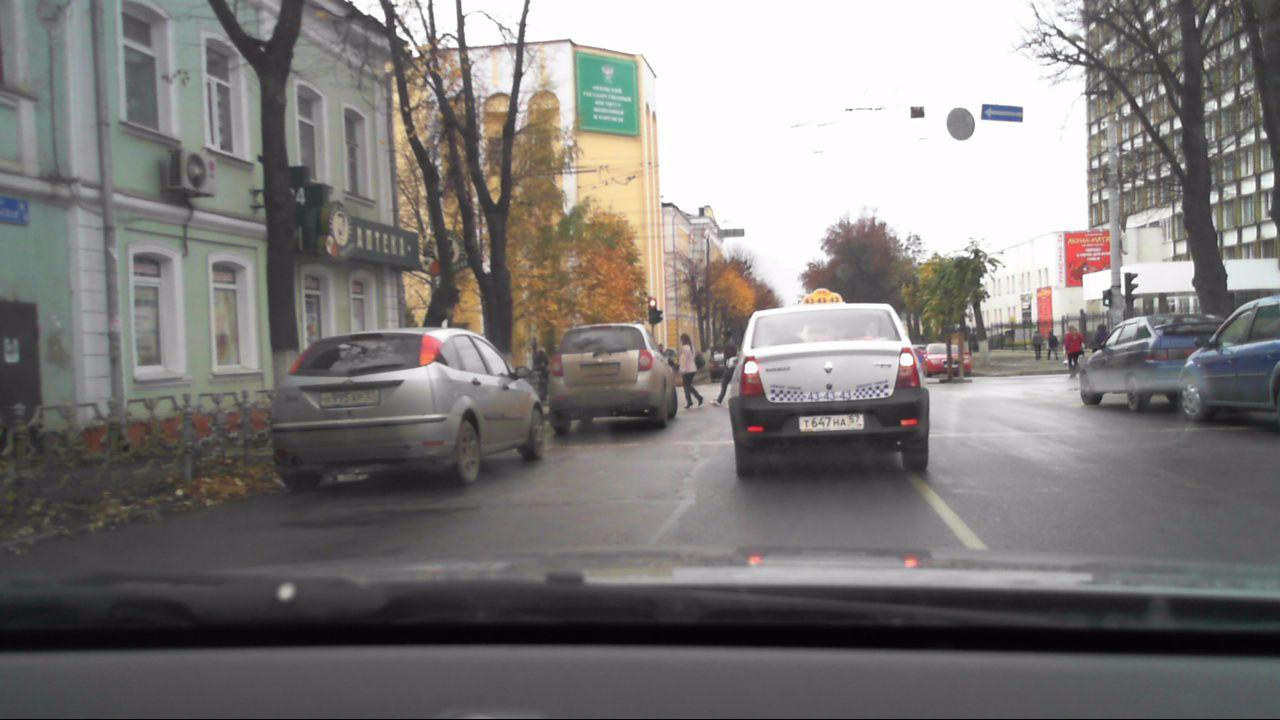5_7_2: (981, 102, 1025, 122)
